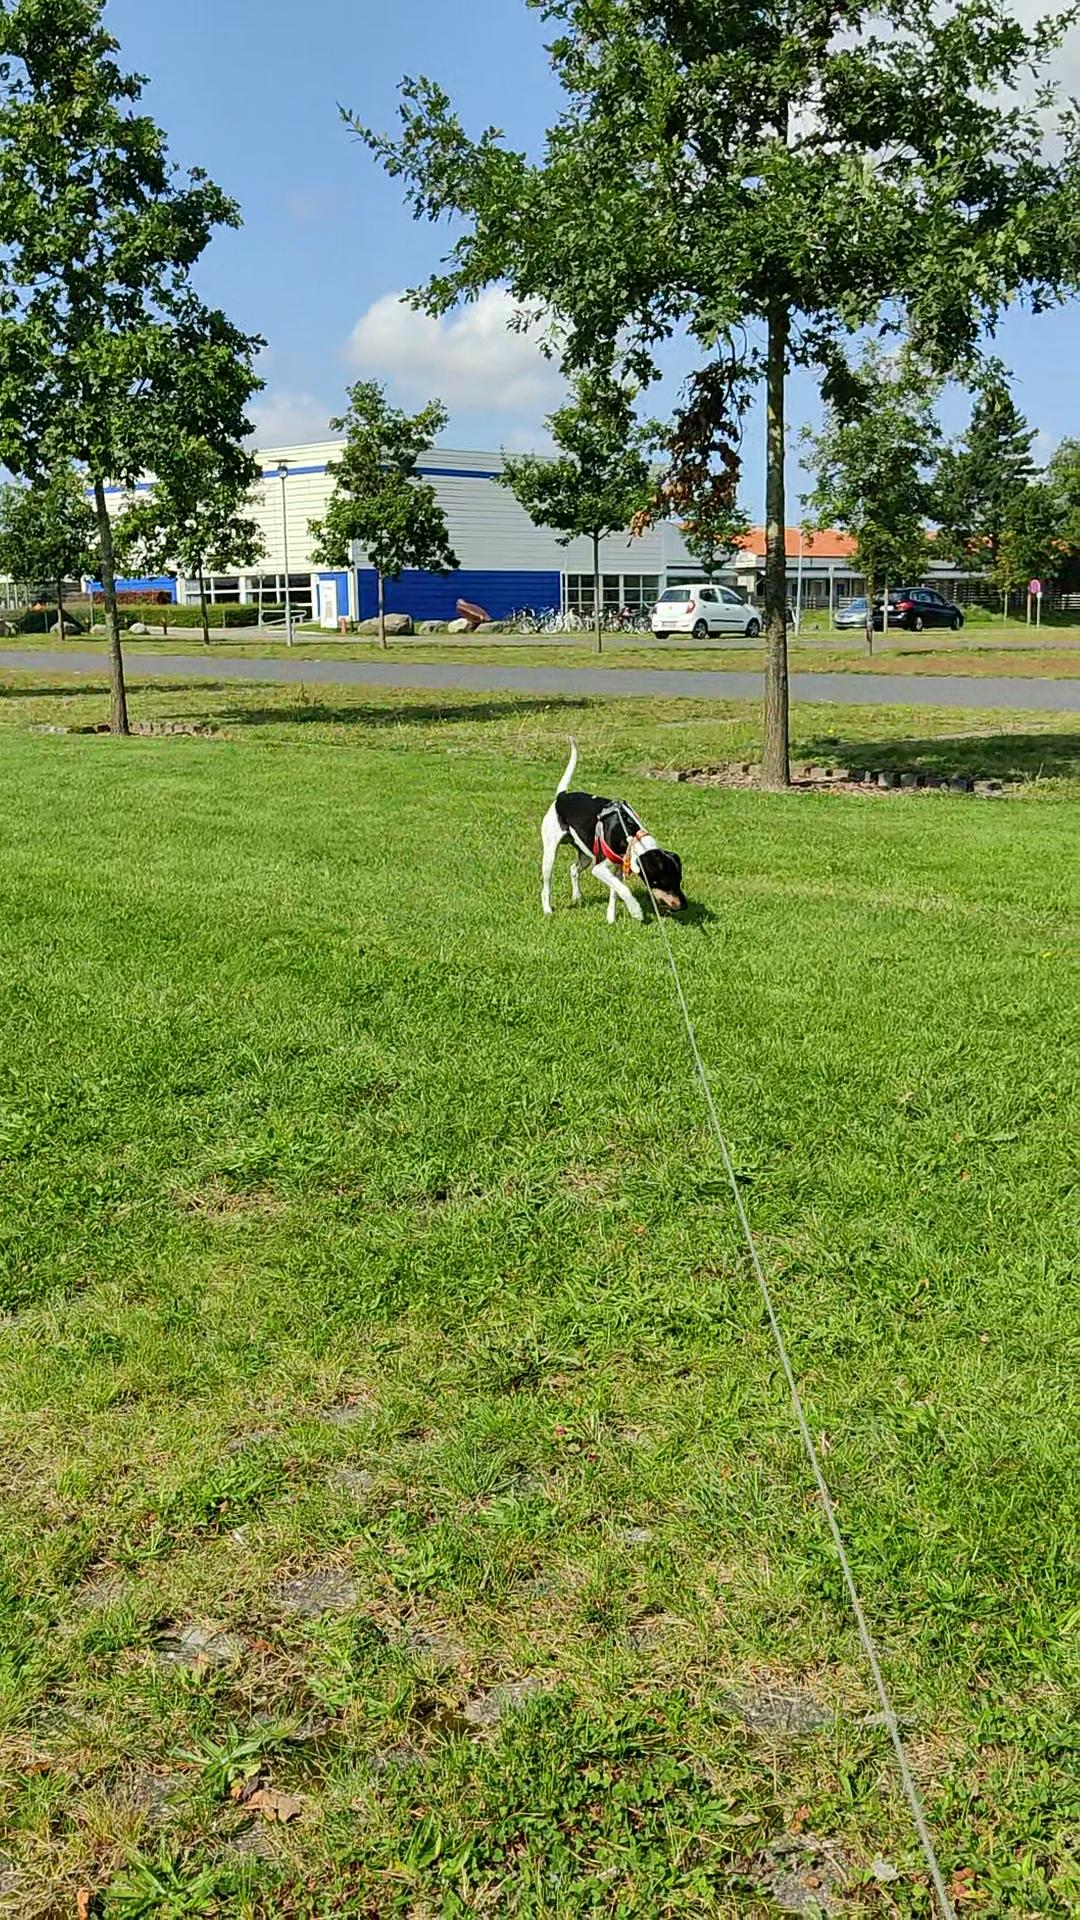Dog: (533, 733, 688, 923)
